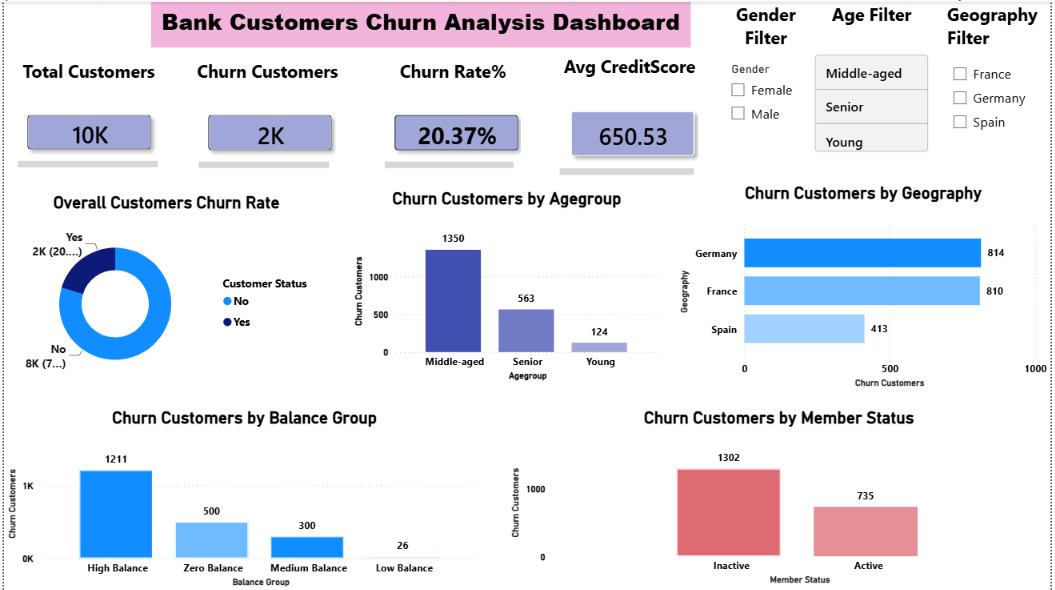

Layout of this report page (visuals, bound fields, positions):
{"tool":"powerbi","page":{"name":"Page 1","canvas":[1280,720],"ordinal":0},"visuals":[{"type":"cardVisual","title":"Total  Customers","fields":{"Data":["Churn_Modelling.Total Customers"]},"box":[0,70,207.2,140],"z":0},{"type":"cardVisual","title":"Churn Customers","fields":{"Data":["Churn_Modelling.Churn Customers"]},"box":[220.9,70,201.7,141.3],"z":1000},{"type":"cardVisual","title":"Churn Rate%","fields":{"Data":["Churn_Modelling.Churn Rate %"]},"box":[448.7,70,200.3,141.3],"z":2000},{"type":"cardVisual","title":"Avg CreditScore","fields":{"Data":["Churn_Modelling.Average CreditScore"]},"box":[662.8,63.1,204.5,155.1],"z":3000},{"type":"donutChart","title":"Overall Customers Churn Rate","fields":{"Y":["CountNonNull(Churn_Modelling.CustomerId)"],"Category":["Churn_Modelling.Customer Status"]},"box":[0,233.6,397.4,234.8],"z":4000},{"type":"clusteredColumnChart","title":" Churn Customers by Agegroup","fields":{"Category":["Churn_Modelling.Agegroup"],"Y":["Churn_Modelling.Churn Customers"]},"box":[423.3,228.1,383.4,239.5],"z":5000},{"type":"clusteredBarChart","title":"Churn Customers by Geography","fields":{"Category":["Churn_Modelling.Geography"],"Y":["Churn_Modelling.Churn Customers"]},"box":[822,220.9,458.3,255.2],"z":6000},{"type":"clusteredColumnChart","title":"Churn Customers by Balance Group ","fields":{"Category":["Churn_Modelling.Balance Group"],"Y":["Churn_Modelling.Churn Customers"]},"box":[0,496.5,588.2,223.8],"z":7000},{"type":"clusteredColumnChart","title":"Churn Customers by Member Status","fields":{"Y":["Churn_Modelling.Churn Customers"],"Category":["Churn_Modelling.Member Status"]},"box":[615.1,496.5,665.2,221.3],"z":8000},{"type":"slicer","title":"Geography Filter","fields":{"Values":["Churn_Modelling.Geography"]},"box":[1148.5,0,131.7,189.4],"z":9000},{"type":"slicer","title":"Gender Filter","fields":{"Values":["Churn_Modelling.Gender"]},"box":[876.8,0,109.8,179.8],"z":10000},{"type":"cardVisual","title":"Age Filter","fields":{"Rows":["Churn_Modelling.Agegroup"]},"box":[986.6,0,148.2,209.9],"z":11000},{"type":"textbox","box":[179.8,0,660,56.3],"z":12000}]}

Visuals, with their boxes in screenshot pixels (x1, y1, x2, y2), scaled from the page's 1280x720 canvas onto the 1055x590 screenshot:
"Total  Customers" cardVisual: 0:57:171:172
"Churn Customers" cardVisual: 182:57:348:173
"Churn Rate%" cardVisual: 370:57:535:173
"Avg CreditScore" cardVisual: 546:52:715:179
"Overall Customers Churn Rate" donutChart: 0:191:328:384
" Churn Customers by Agegroup" clusteredColumnChart: 349:187:665:383
"Churn Customers by Geography" clusteredBarChart: 678:181:1054:390
"Churn Customers by Balance Group " clusteredColumnChart: 0:407:485:589
"Churn Customers by Member Status" clusteredColumnChart: 507:407:1054:588
"Geography Filter" slicer: 947:0:1054:155
"Gender Filter" slicer: 723:0:813:147
"Age Filter" cardVisual: 813:0:935:172
textbox: 148:0:692:46
